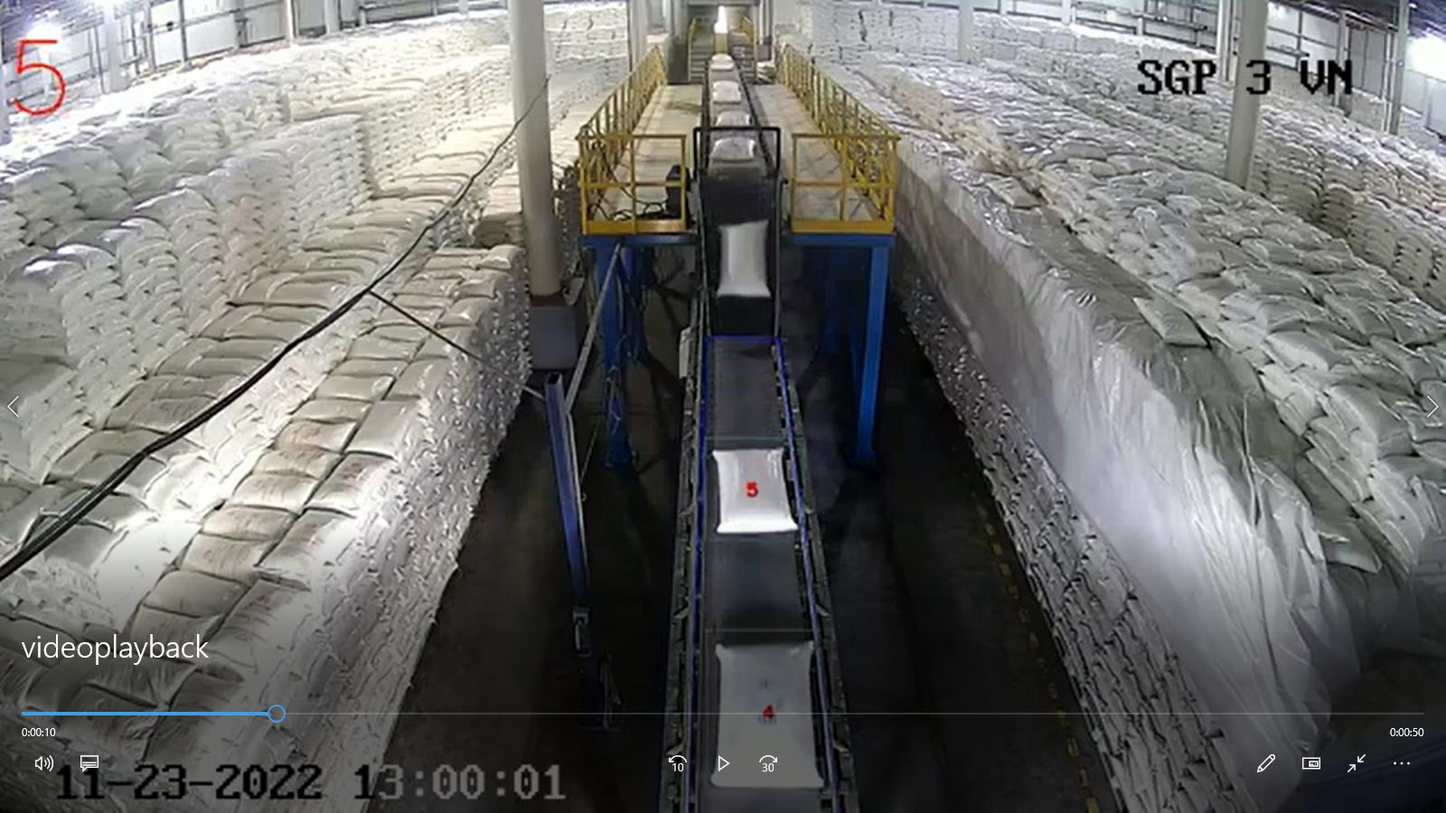rice-bag: (712, 641, 822, 790), (711, 445, 797, 534), (718, 220, 771, 297)
